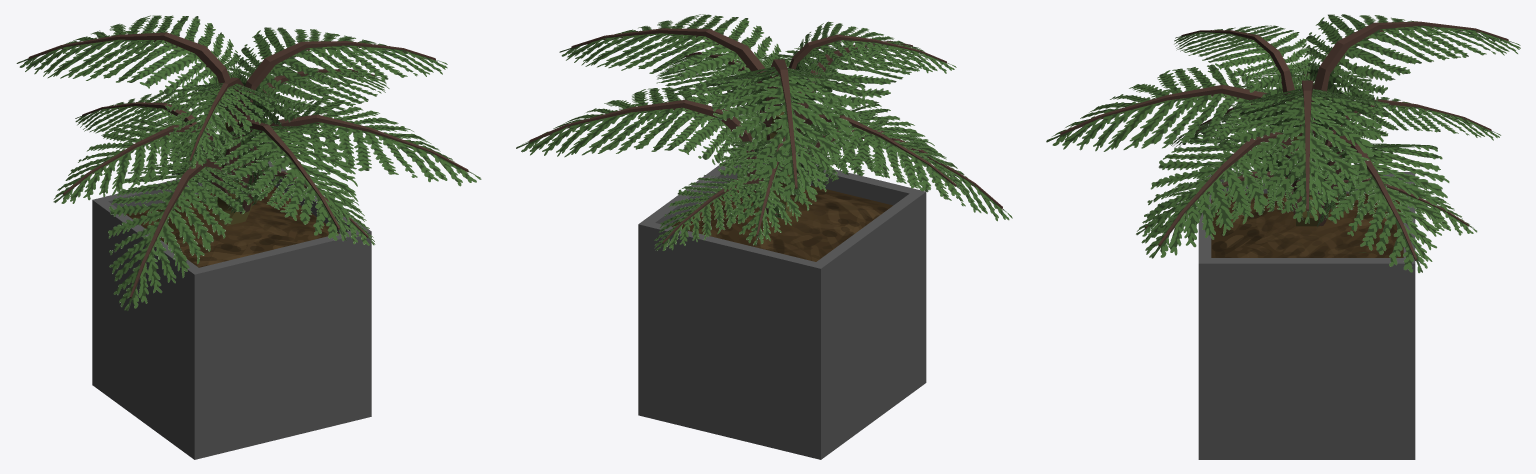
File: farn.fbx
3 views of the same model, side by side, from view 1: azimuth 30°, elevation 25°; view 2: azimuth 150°, elevation 25°; view 3: azimuth 270°, elevation 25° (orthographic). The views are drawn at different scales.
Visible parts, largest first — view 1: polySurface15, polySurface3; view 2: polySurface3, polySurface15; view 3: polySurface15, polySurface3.
Part boxes in pixels (<box>): polySurface15: <box>16,15,481,310</box>; polySurface3: <box>92,120,371,459</box>; polySurface3: <box>638,112,926,459</box>; polySurface15: <box>516,14,1012,250</box>; polySurface15: <box>1046,14,1520,273</box>; polySurface3: <box>1198,135,1415,459</box>.
Bounding box in the file's own units: 2.66 × 2.25 × 2.62.
